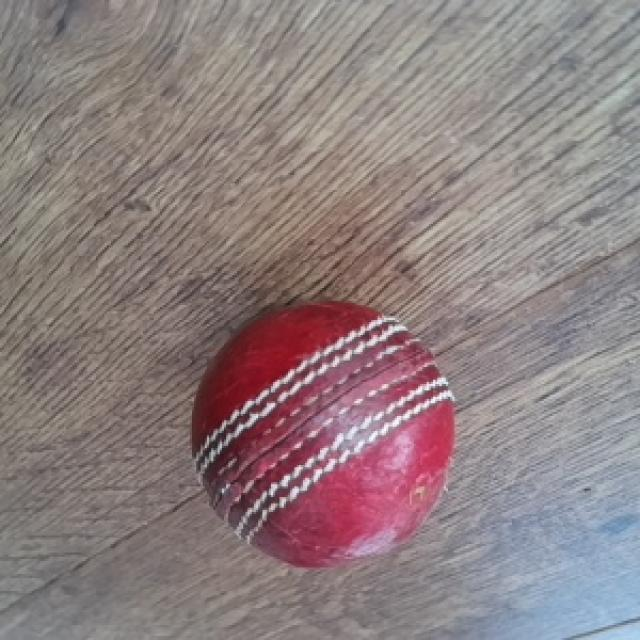ball: (185, 297, 460, 571)
